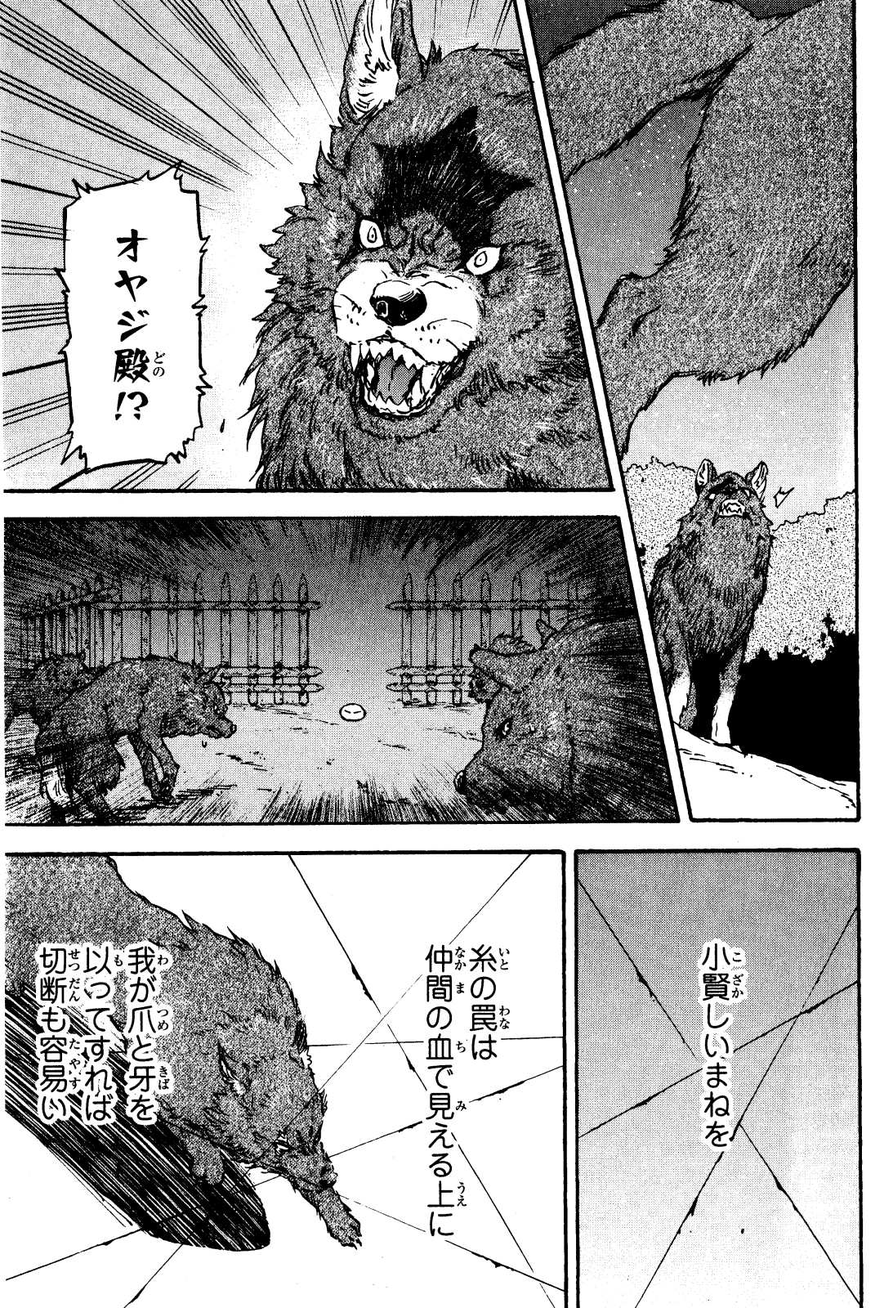bubbles: (45, 155, 217, 476)
